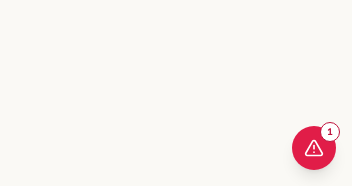
Test: reading the list › offers the metrics page and closes on the way
This screenshot has width=352, height=186.
What coordinates should you click on to do the following:
click the button titled "Feature alerts"
I would click on:
 (314, 148)
Its box is x1=292 y1=126 x2=336 y2=170.
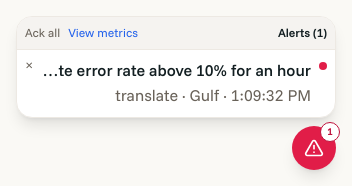
What coordinates should you click on to do the following:
click the link "View metrics"
I would click on:
 (103, 33)
Its box is x1=68 y1=25 x2=138 y2=41.
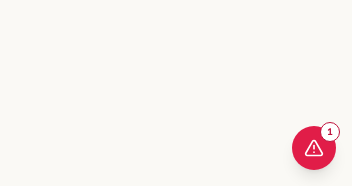
Check: the text "Alerts (1)" is gone
